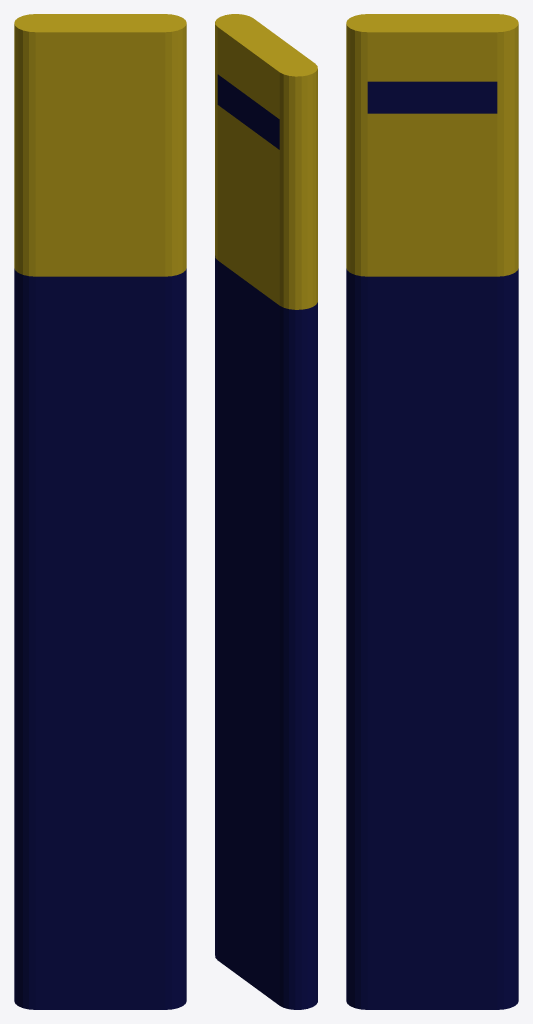
File: HolscherV3.fbx
3 views of the same model, side by side, from view 1: azimuth 90°, elevation 25°; view 2: azimuth 210°, elevation 25°; view 3: azimuth 270°, elevation 25° (orthographic). The views are drawn at different scales.
Parts seen in each view (by area): view 1: Cube; view 2: Cube; view 3: Cube.
Part boxes in pixels (bbox=[...]): Cube: bbox=[14, 14, 186, 1009]; Cube: bbox=[215, 14, 317, 1009]; Cube: bbox=[346, 14, 518, 1009].
Bounding box in the file's own units: 10 × 250 × 40.
